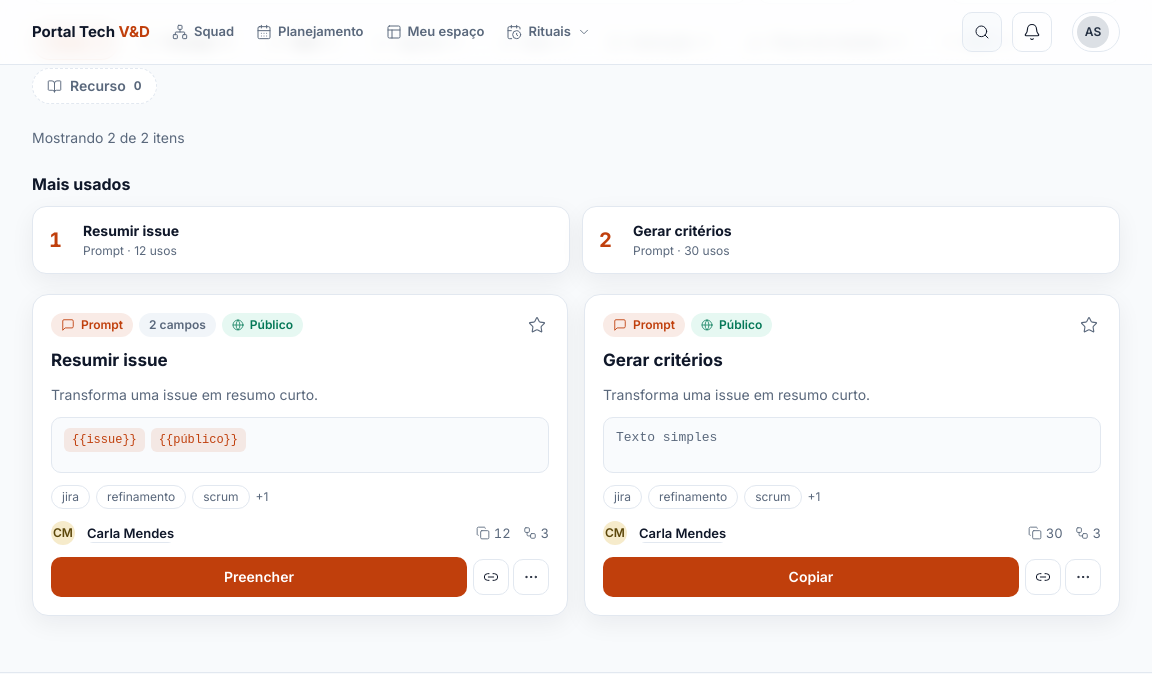
Catálogo › clicar no título abre o painel lateral com o mesmo conteúdo da página e o atalho "Abrir como página"
The image size is (1152, 674).
(page scrolled)
Click the button "Resumir issue": (109, 361) [51,349,168,372]
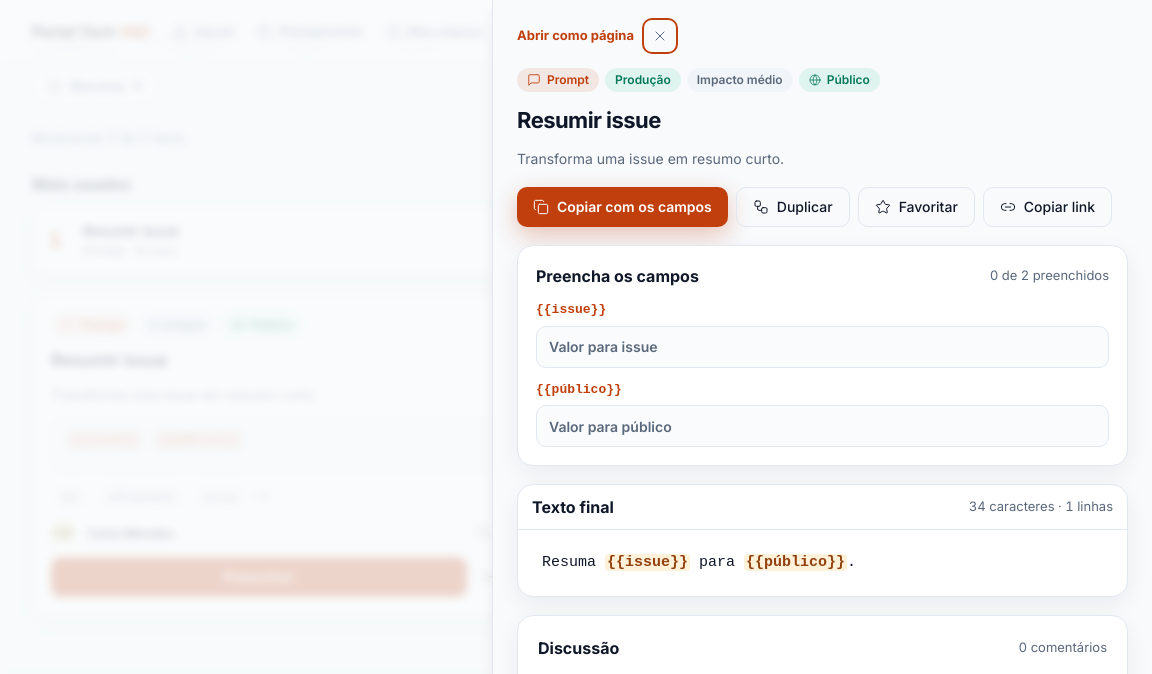
Check: the heading "Preencha os campos" is shown, box [536,264,699,288]
